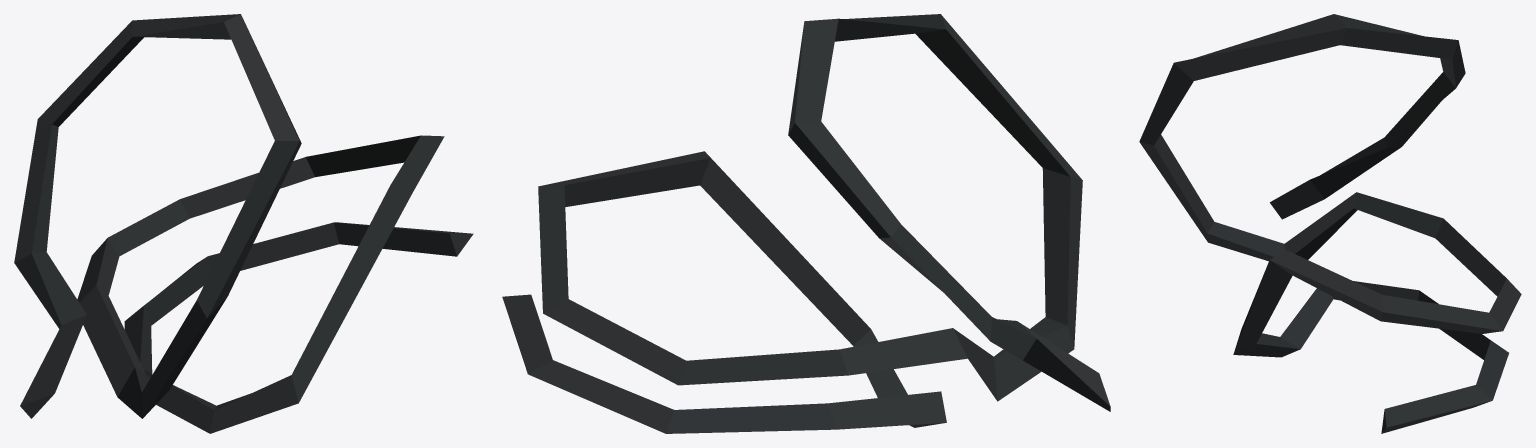
The model's file is SM_Prop_Powerline_Bundle_03.glb.
The picture shows the model from 3 angles, left to right: view 1: azimuth 30°, elevation 25°; view 2: azimuth 150°, elevation 25°; view 3: azimuth 270°, elevation 25°; orthographic projection. The views are drawn at different scales.
Parts seen in each view (by area): view 1: SM_Prop_Powerline_Bundle_03; view 2: SM_Prop_Powerline_Bundle_03; view 3: SM_Prop_Powerline_Bundle_03.
Boxes of the visible parts, x1,y1,x2,y2 form: SM_Prop_Powerline_Bundle_03: [14, 14, 473, 433]; SM_Prop_Powerline_Bundle_03: [502, 14, 1110, 433]; SM_Prop_Powerline_Bundle_03: [1139, 14, 1521, 433].
Size of the model in its own units: 0.9575 by 0.694 by 0.6633.
1 material, 1 textured.
